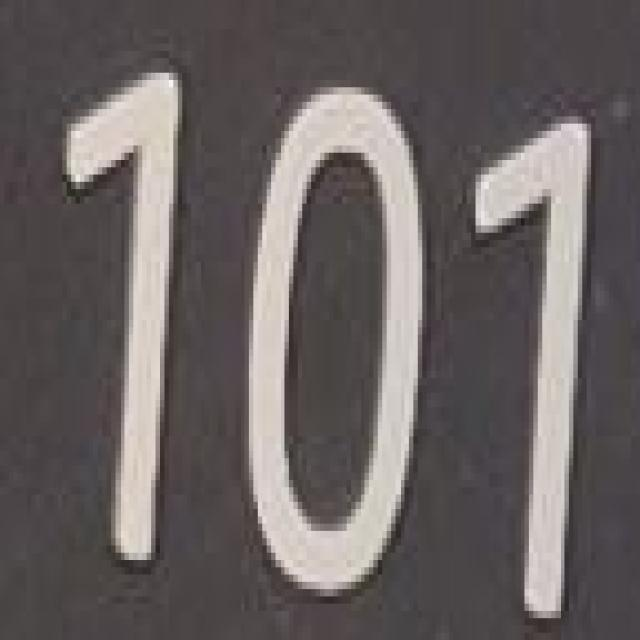character: (239, 74, 432, 612), (56, 53, 188, 590), (466, 108, 599, 626)
